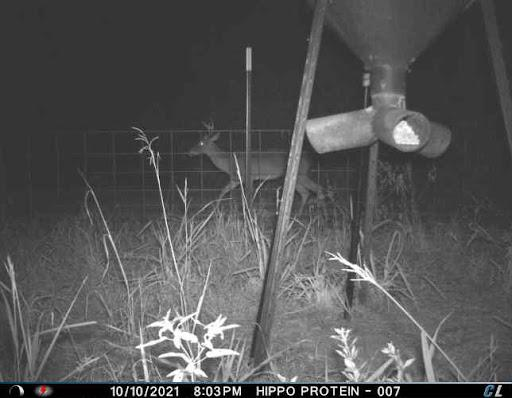Deer: (183, 114, 331, 219)
